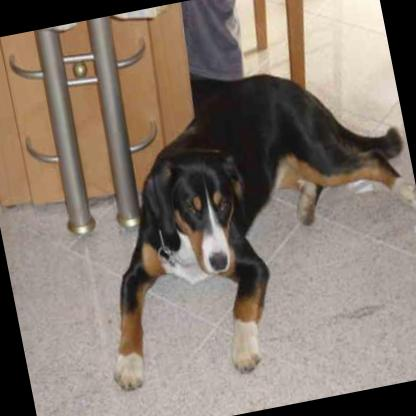EntleBucher: (58, 43, 416, 399)
